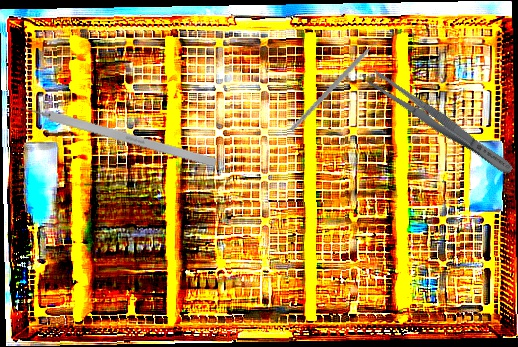Chopper: (289, 23, 392, 147)
Dressing Forceps: (364, 67, 518, 180)
Hook Surgical: (10, 99, 218, 169)
